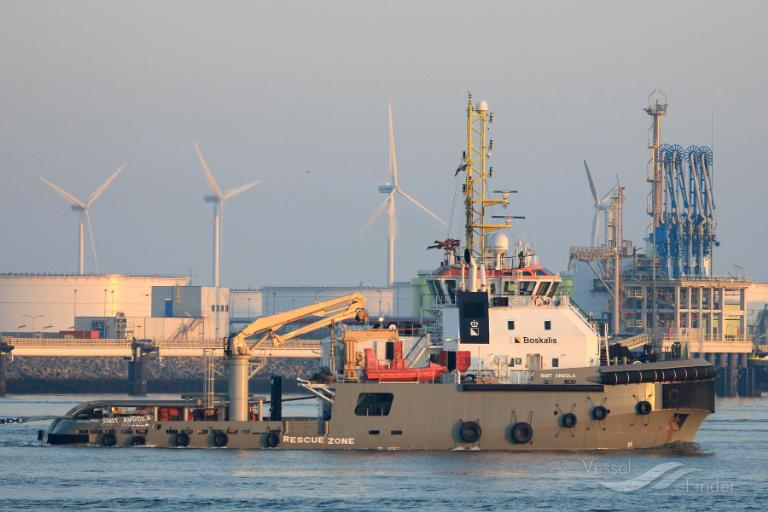OCR: (273, 426, 360, 446), (68, 414, 155, 430), (508, 334, 560, 348)
